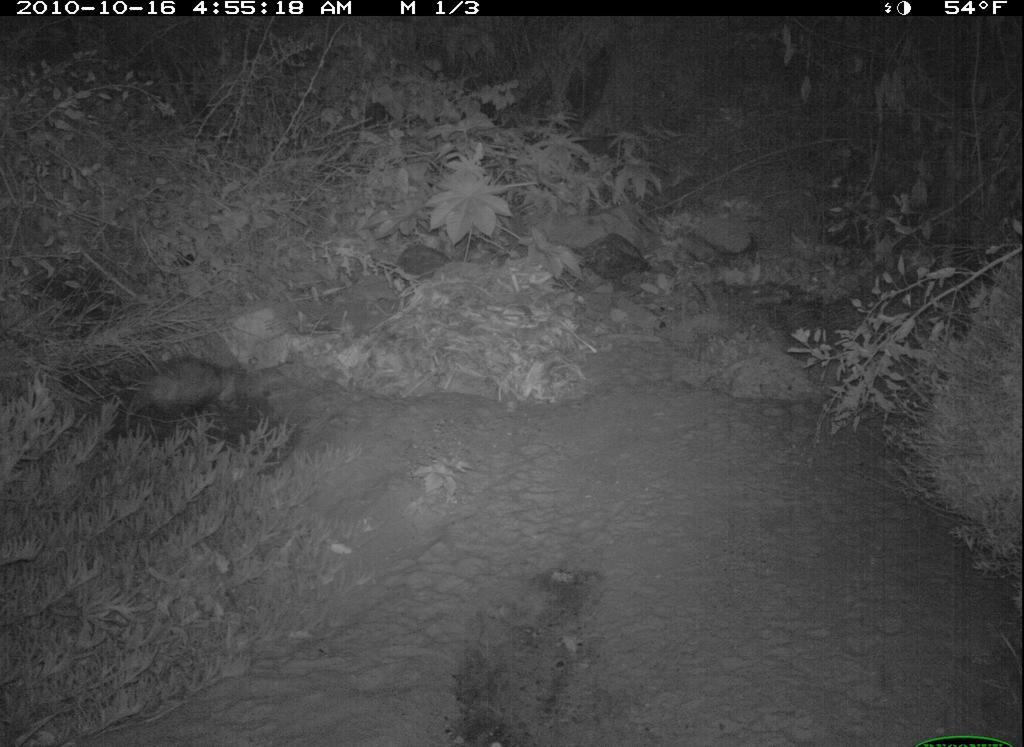opossum: (108, 348, 261, 433)
